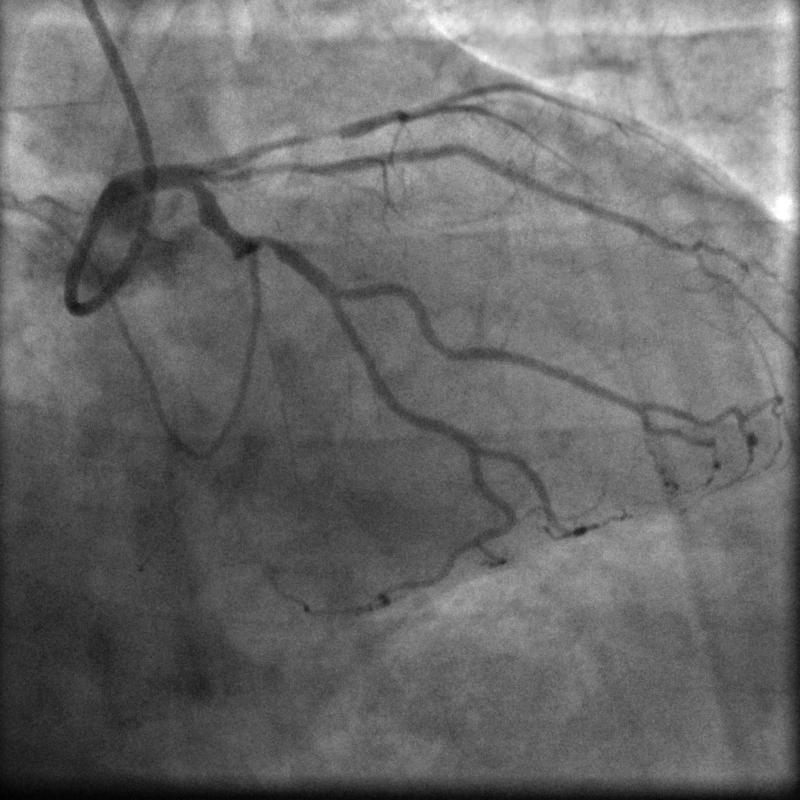Stenosis: (252, 232, 281, 253)
